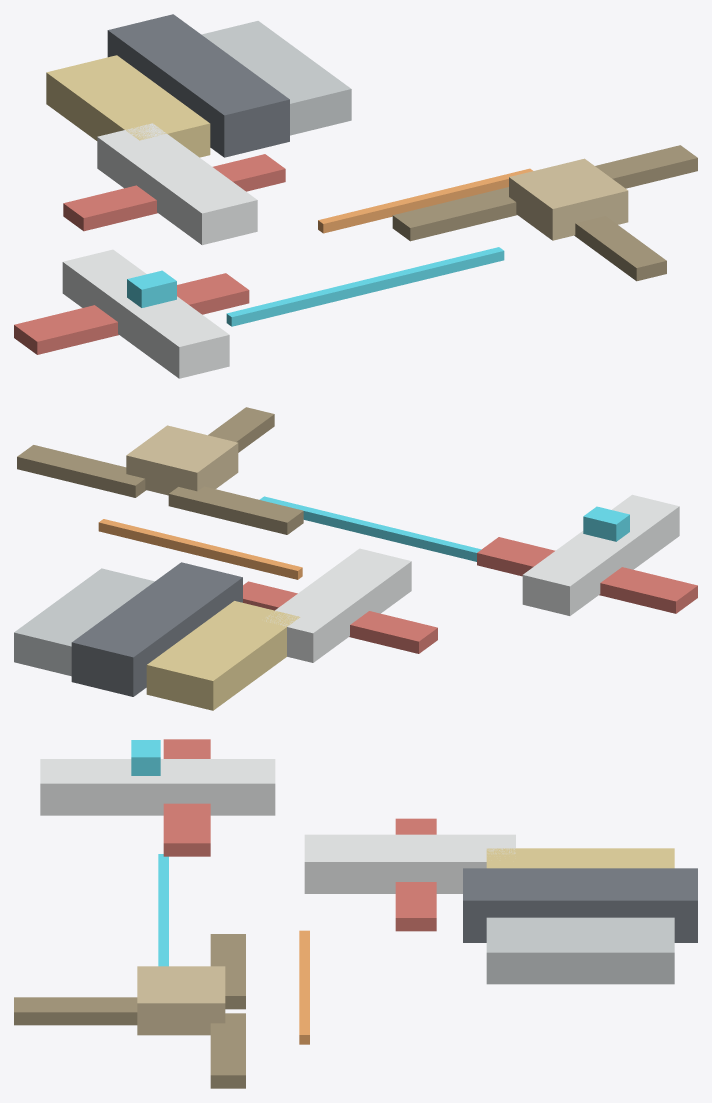
The model's file is cubecraft_space_tableau_01.glb.
3 renders of one model, top to bottom at view 1: azimuth 30°, elevation 25°; view 2: azimuth 150°, elevation 25°; view 3: azimuth 270°, elevation 25°, orthographic. The views are drawn at different scales.
Parts seen in each view (by area): view 1: freighter_spine, wingman_body, friendly_body, freighter_left_pod, freighter_right_pod, enemy_core, friendly_wing, wingman_wing, blue_laser, enemy_fin_left, enemy_fin_front, orange_laser (+2 smaller); view 2: freighter_spine, freighter_left_pod, friendly_body, wingman_body, freighter_right_pod, enemy_core, friendly_wing, enemy_fin_left, wingman_wing, enemy_fin_right, orange_laser, blue_laser (+2 smaller); view 3: freighter_spine, freighter_right_pod, friendly_body, wingman_body, enemy_core, freighter_left_pod, enemy_fin_front, friendly_wing, wingman_wing, enemy_fin_right, enemy_fin_left, orange_laser (+2 smaller).
Boxes of the visible parts, x1,y1,x2,y2 form: freighter_spine: (107, 14, 289, 157); wingman_body: (97, 123, 257, 245); friendly_body: (62, 249, 229, 378); freighter_left_pod: (46, 55, 210, 157); freighter_right_pod: (201, 21, 351, 135); enemy_core: (509, 158, 628, 240); friendly_wing: (14, 273, 249, 354); wingman_wing: (63, 154, 285, 231); blue_laser: (226, 247, 504, 326); enemy_fin_left: (392, 187, 516, 241); enemy_fin_front: (574, 216, 666, 281); orange_laser: (318, 168, 532, 233); freighter_spine: (71, 562, 242, 696); freighter_left_pod: (146, 601, 300, 710); friendly_body: (522, 494, 679, 615); wingman_body: (266, 548, 411, 662); freighter_right_pod: (14, 568, 154, 676); enemy_core: (126, 425, 238, 495); friendly_wing: (477, 537, 697, 613); enemy_fin_left: (168, 486, 303, 534); wingman_wing: (243, 581, 437, 653); enemy_fin_right: (17, 445, 145, 497); orange_laser: (98, 519, 302, 579); blue_laser: (259, 496, 481, 561); freighter_spine: (463, 868, 697, 942); freighter_right_pod: (486, 917, 674, 984); friendly_body: (40, 759, 275, 815); wingman_body: (304, 834, 515, 893); enemy_core: (137, 966, 225, 1035); freighter_left_pod: (486, 848, 674, 868); enemy_fin_front: (14, 997, 137, 1025); friendly_wing: (163, 739, 210, 856); wingman_wing: (395, 818, 436, 931); enemy_fin_right: (210, 1013, 245, 1088); enemy_fin_left: (210, 934, 245, 1009); orange_laser: (299, 930, 309, 1044).
Size of the model in its own units: 13.55 by 1.36 by 11.65.
